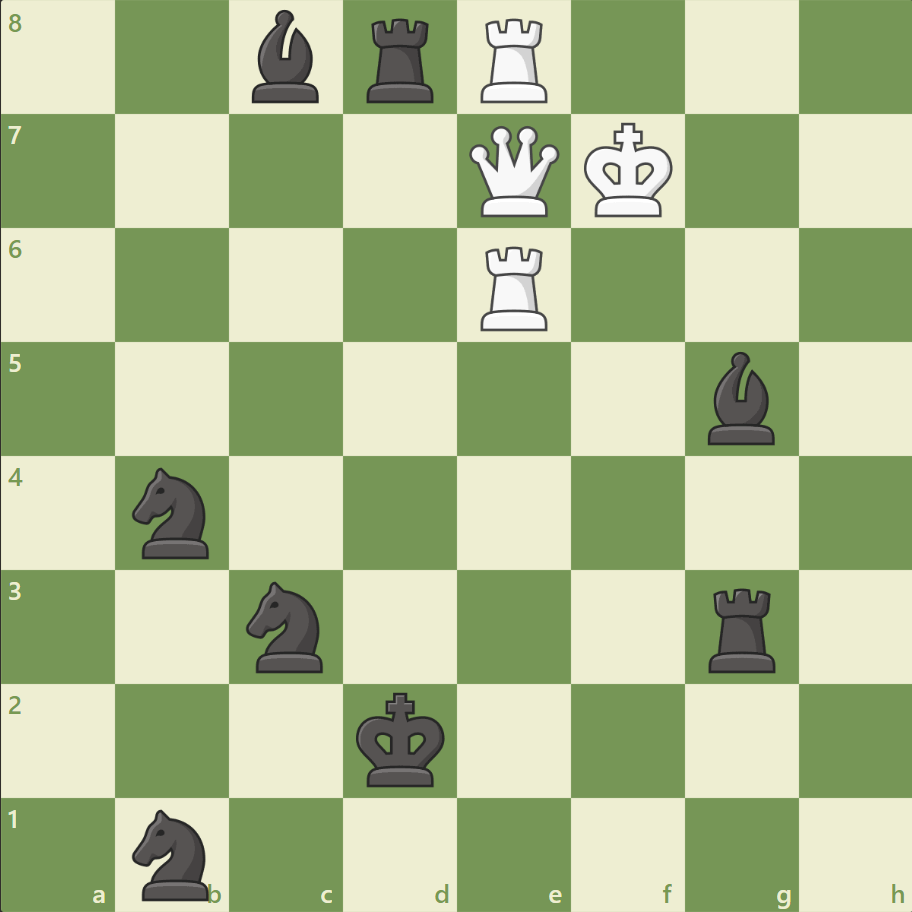K: (579, 117, 679, 225)
Q: (464, 122, 563, 222)
R: (473, 12, 556, 109), (473, 239, 556, 336)
b: (244, 6, 328, 109), (698, 347, 782, 449)
k: (351, 685, 451, 793)
n: (124, 461, 222, 564), (124, 802, 222, 904), (238, 575, 335, 677)
r: (700, 579, 783, 676), (360, 12, 442, 109)
